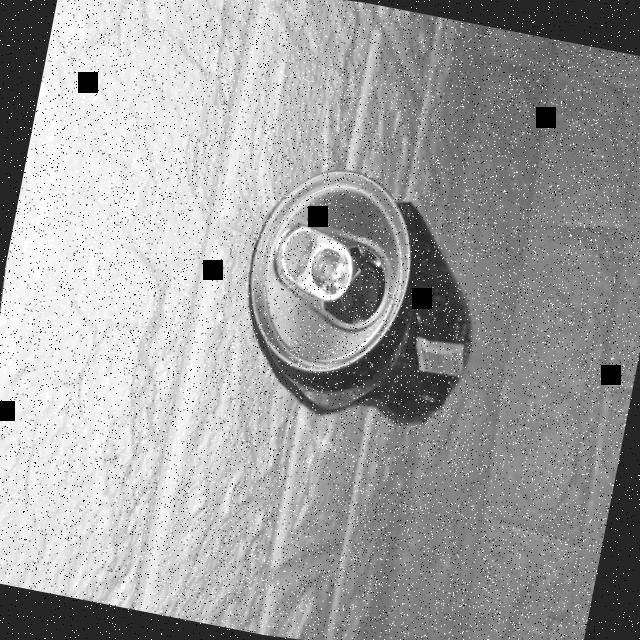can: (214, 142, 514, 462)
